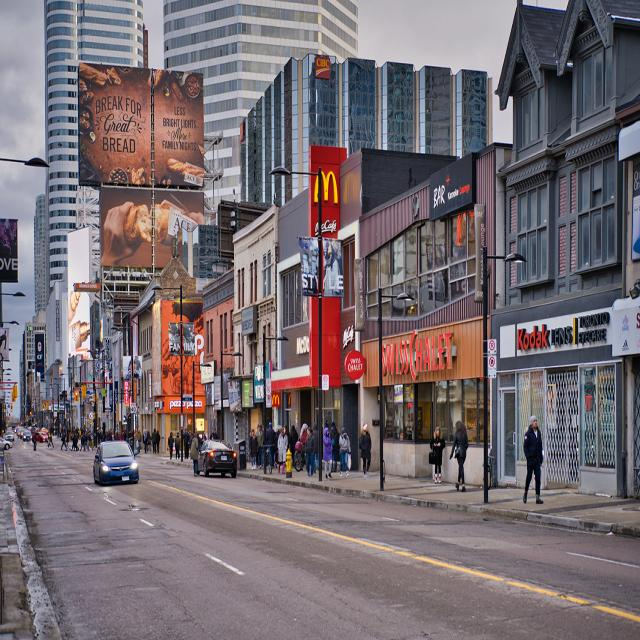Street Light: (269, 165, 324, 482), (483, 247, 525, 503), (379, 288, 415, 492), (152, 284, 184, 460), (262, 333, 288, 474), (112, 326, 137, 450), (220, 350, 244, 464), (0, 154, 50, 205), (192, 361, 212, 450), (0, 291, 26, 305), (0, 318, 20, 330)
